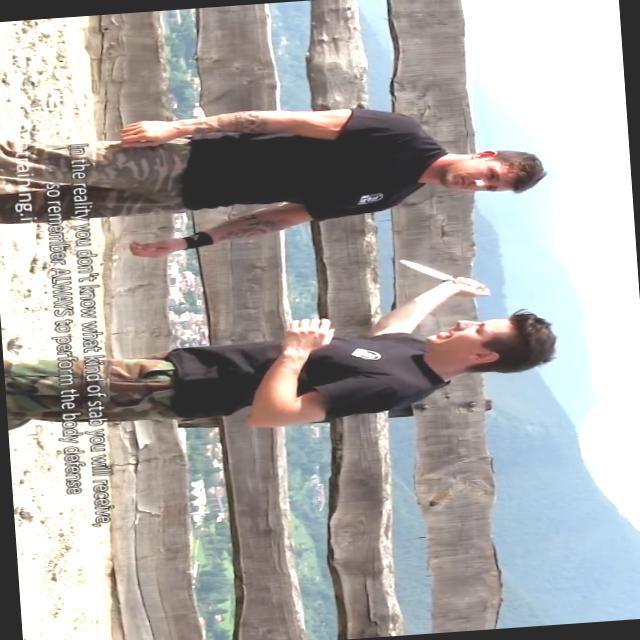knife: (394, 250, 494, 303)
